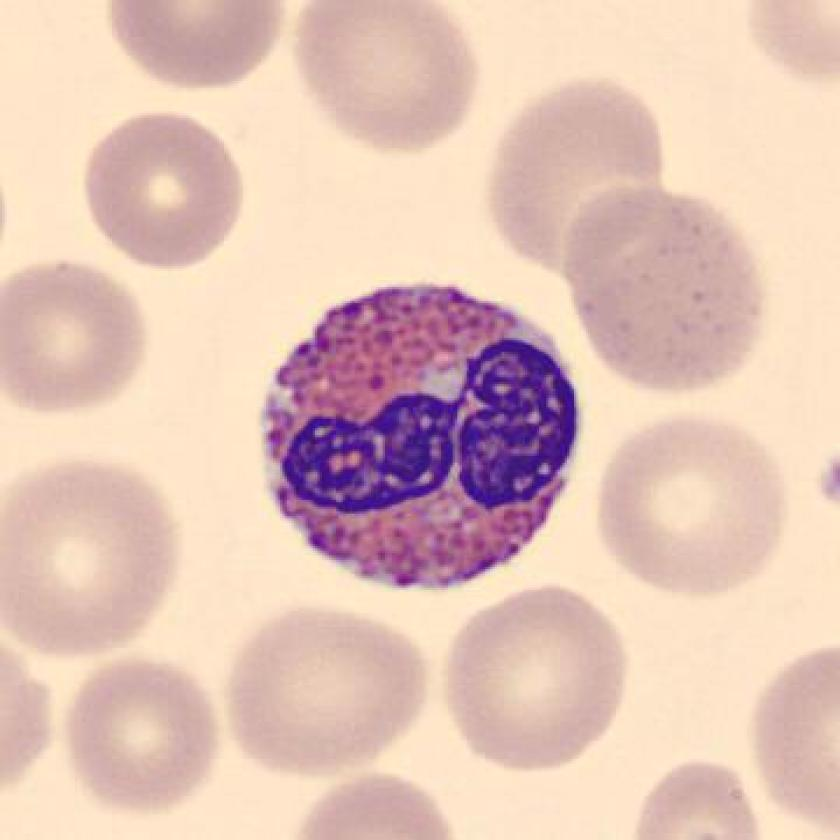eosinophil: (251, 270, 594, 608)
